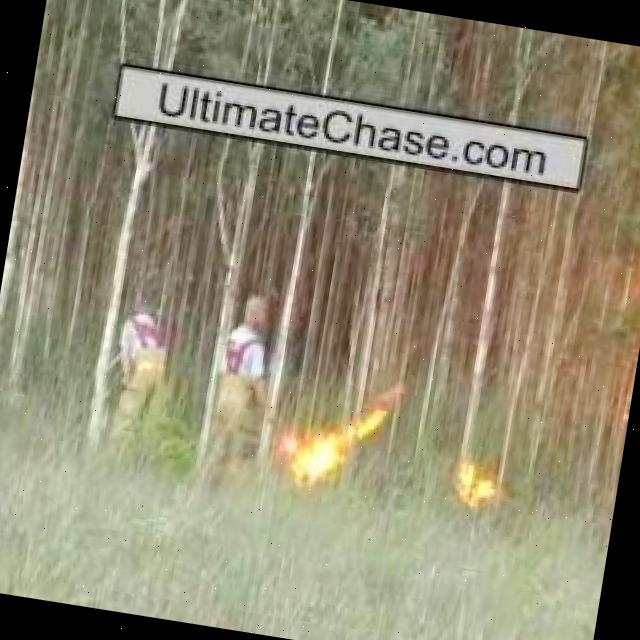fire: (279, 400, 391, 494), (452, 462, 502, 520)
